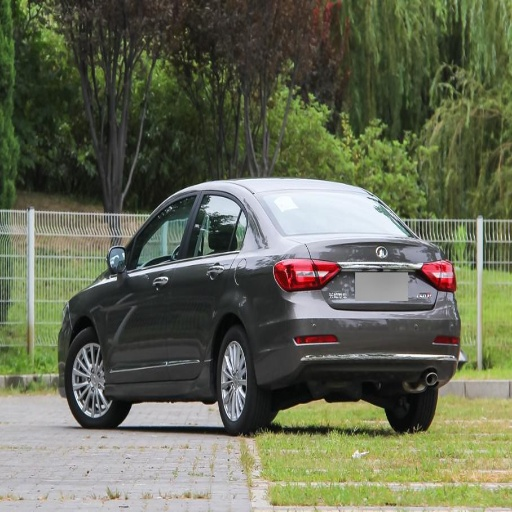back_bumper: (253, 290, 460, 387)
back_glass: (261, 184, 406, 234)
back_left_door: (163, 188, 248, 377)
tailgate: (306, 233, 433, 310)
